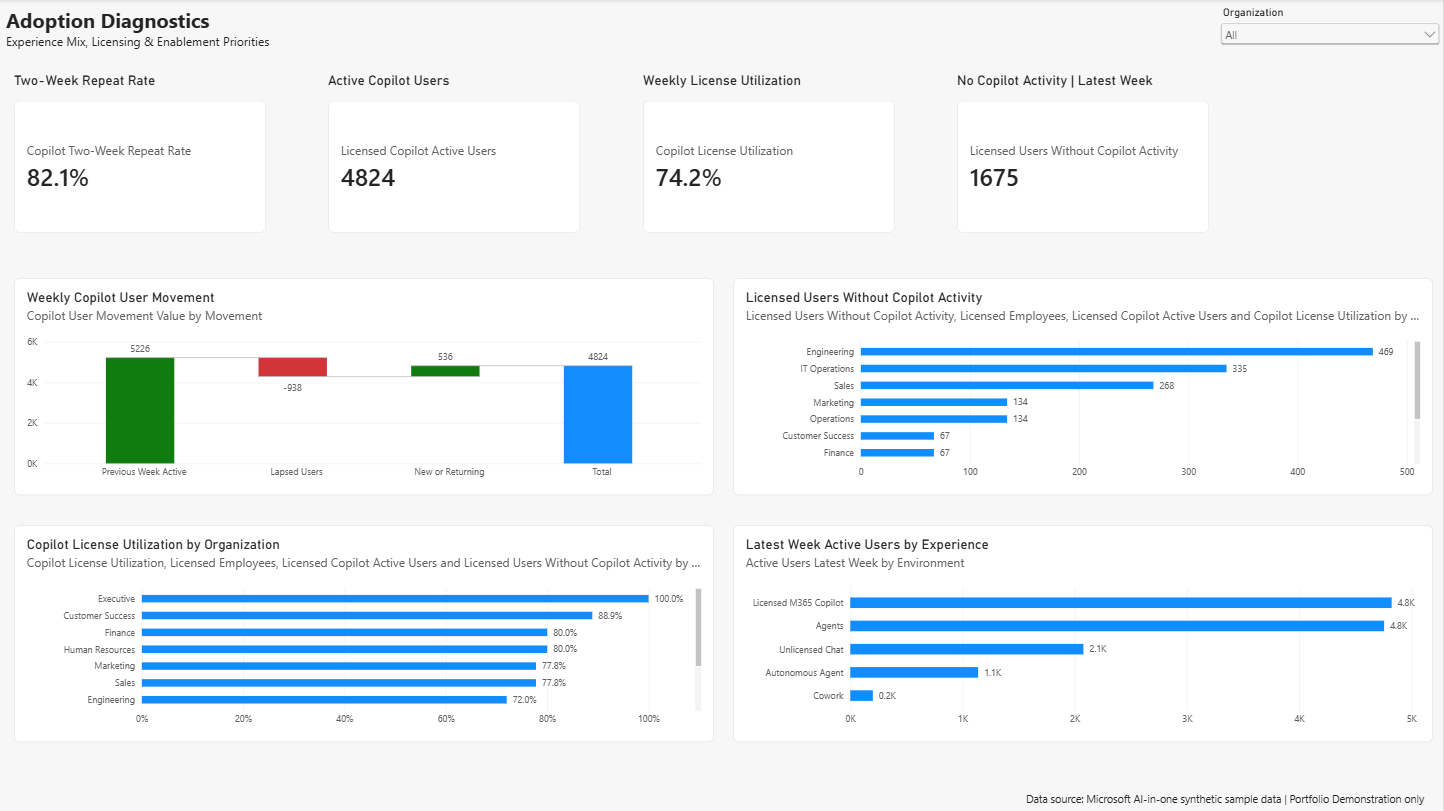

Layout of this report page (visuals, bound fields, positions):
{"tool":"powerbi","page":{"name":"02 Adoption Diagnostics","canvas":[1920,1080],"ordinal":1},"visuals":[{"type":"textbox","box":[9.3,9.3,389.7,71.8],"z":0},{"type":"slicer","fields":{"Values":["CopilotUsers.Organization"]},"box":[1619.4,9.3,300.6,71.8],"z":1000},{"type":"clusteredBarChart","title":"Latest Week Active Users by Experience ","fields":{"Category":["CopilotInteractions.Environment"],"Y":["DimWeek.Active Users Latest Week"]},"box":[976.3,699.6,931,288.6],"z":2000},{"type":"cardVisual","title":"Active Copilot Users","fields":{"Data":["CopilotUsers.Licensed Copilot Active Users"]},"box":[438,97.1,335.2,214.1],"z":3000},{"type":"cardVisual","title":"Weekly License Utilization","fields":{"Data":["CopilotUsers.Copilot License Utilization"]},"box":[856.1,97.1,335.2,214.1],"z":4000},{"type":"cardVisual","title":"No Copilot Activity | Latest Week","fields":{"Data":["CopilotUsers.Licensed Users Without Copilot Activity"]},"box":[1274.2,97.1,335.2,214.1],"z":5000},{"type":"clusteredBarChart","title":"Copilot License Utilization by Organization","fields":{"Category":["CopilotUsers.Organization"],"Y":["CopilotUsers.Copilot License Utilization"]},"box":[20,699.6,931,288.6],"z":6000},{"type":"clusteredBarChart","title":"Licensed Users Without Copilot Activity","fields":{"Category":["CopilotUsers.Organization"],"Y":["CopilotUsers.Licensed Users Without Copilot Activity"]},"box":[976.3,371.1,931,288.6],"z":7000},{"type":"textbox","box":[1365.4,1054.7,554.6,25.3],"z":8000},{"type":"cardVisual","title":"Two-Week Repeat Rate","fields":{"Data":["CopilotUsers.Copilot Two-Week Repeat Rate"]},"box":[20,97.1,335.2,214.1],"z":9000},{"type":"waterfallChart","title":"Weekly Copilot User Movement","fields":{"Category":["CopilotUserMovement.Movement"],"Y":["CopilotUserMovement.Copilot User Movement Value"]},"box":[20,371.1,931,288.6],"z":10000}]}

Visuals, with their boxes in screenshot pixels (x1, y1, x2, y2), scaled from the page's 1920x1080 canvas onto the 1444x811 screenshot:
textbox: <box>7,7,300,61</box>
slicer - CopilotUsers.Organization: <box>1218,7,1443,61</box>
"Latest Week Active Users by Experience " clusteredBarChart: <box>734,525,1434,742</box>
"Active Copilot Users" cardVisual: <box>329,73,582,234</box>
"Weekly License Utilization" cardVisual: <box>644,73,896,234</box>
"No Copilot Activity | Latest Week" cardVisual: <box>958,73,1210,234</box>
"Copilot License Utilization by Organization" clusteredBarChart: <box>15,525,715,742</box>
"Licensed Users Without Copilot Activity" clusteredBarChart: <box>734,279,1434,495</box>
textbox: <box>1027,792,1443,810</box>
"Two-Week Repeat Rate" cardVisual: <box>15,73,267,234</box>
"Weekly Copilot User Movement" waterfallChart: <box>15,279,715,495</box>
